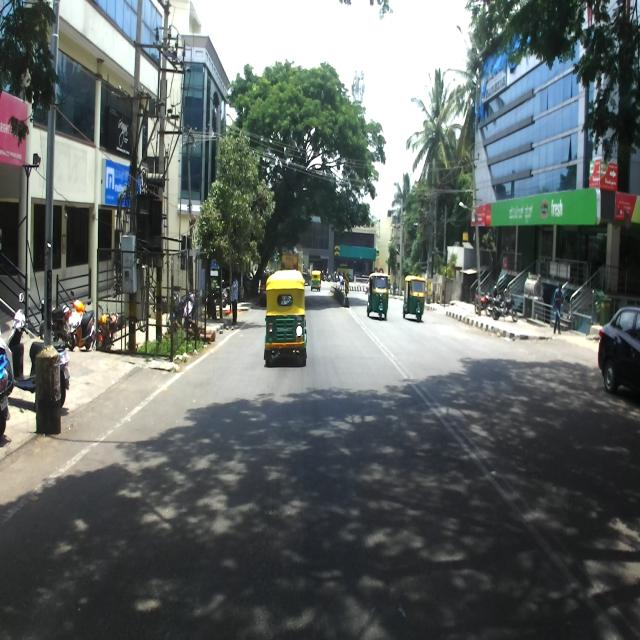auto ahead at: (265, 262, 308, 376)
electric pole ahead at: (122, 0, 190, 362)
